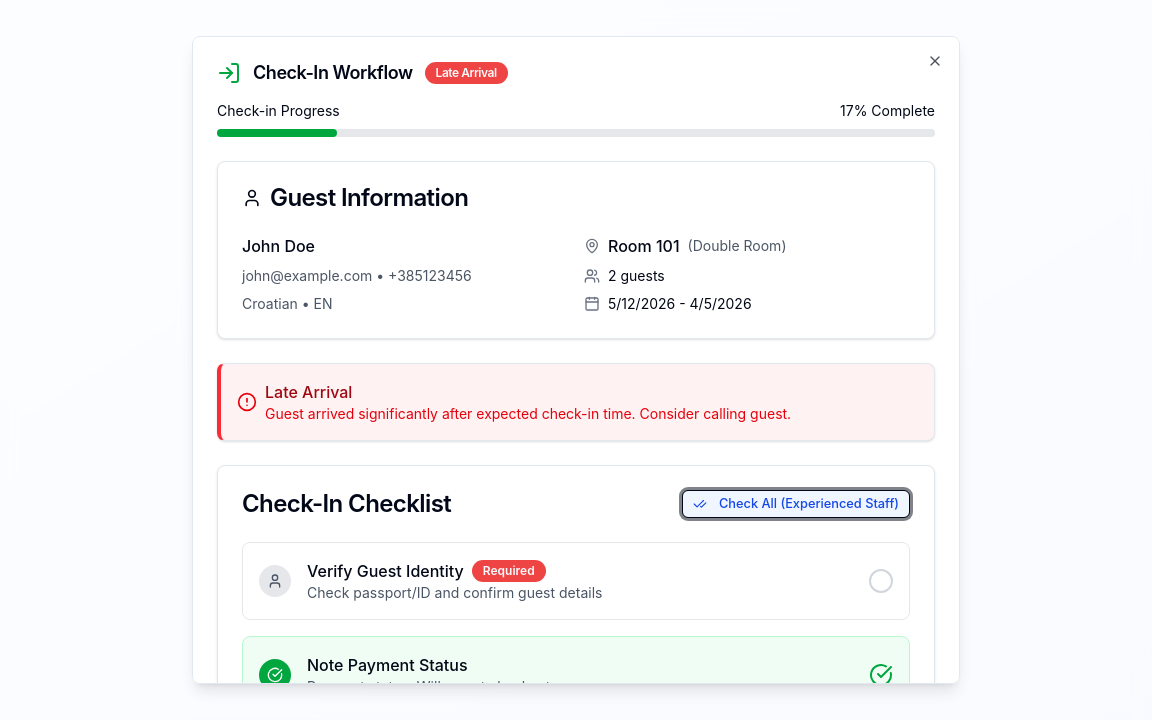
Test: CheckInWorkflow › step toggling › enables complete button after manually completing all required steps
The image size is (1152, 720).
Click the button "Verify Guest Identity": (576, 581) x1=242 y1=542 x2=910 y2=620
(page scrolled)
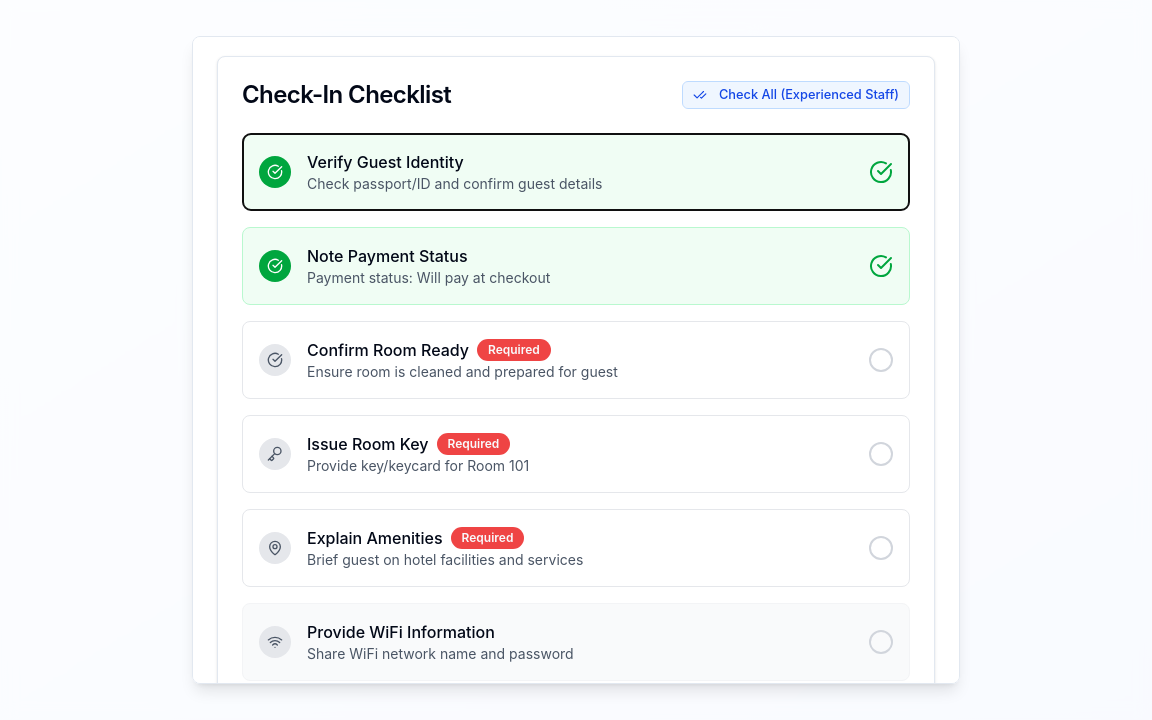
Click the button "Confirm Room Ready": (576, 360) x1=242 y1=321 x2=910 y2=399
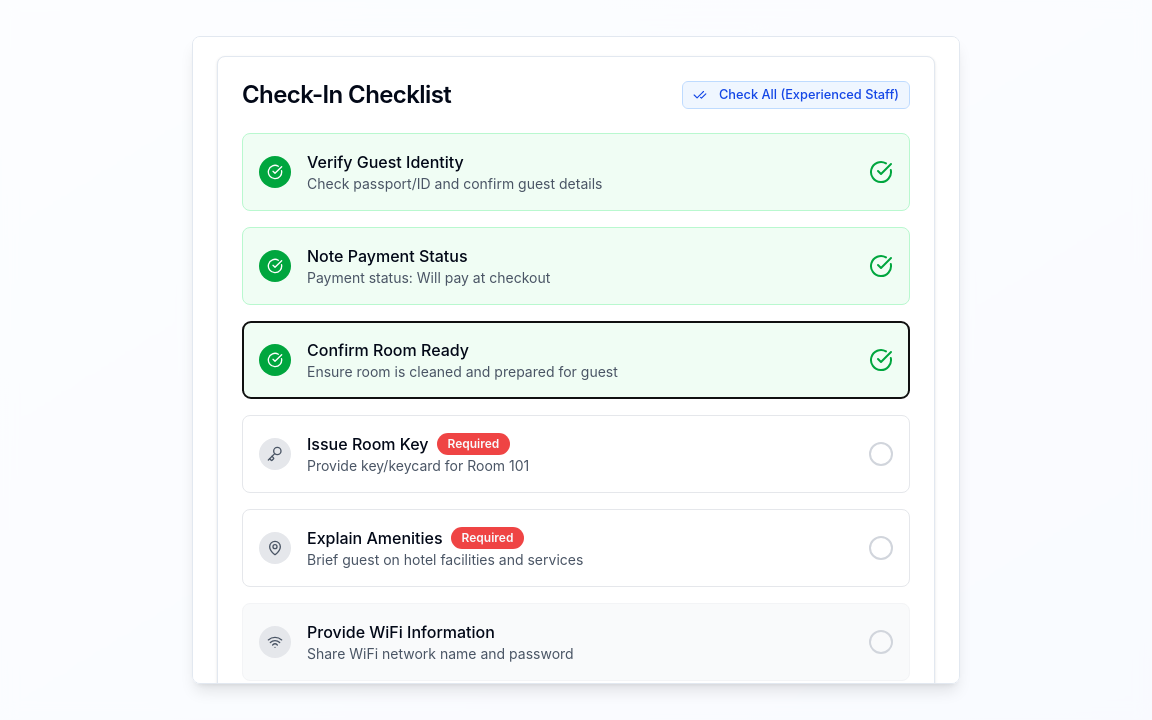
Click the button "Issue Room Key": (275, 454) x1=242 y1=415 x2=910 y2=493
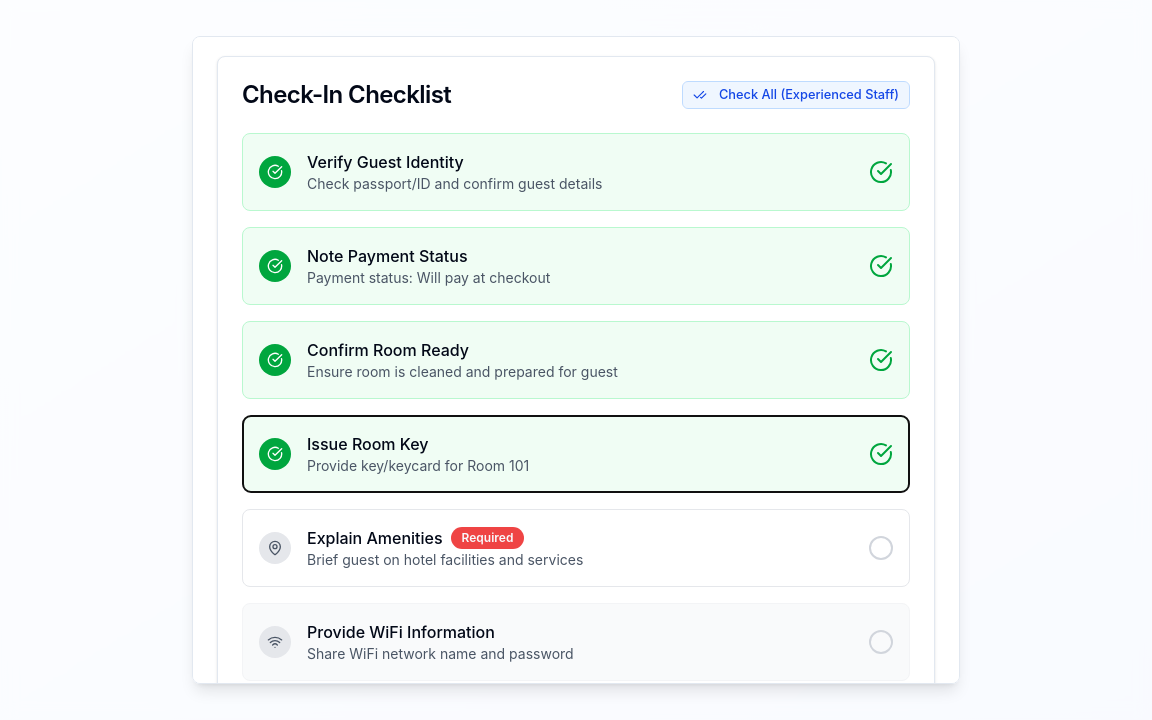
Click the button "Explain Amenities": (576, 548) x1=242 y1=509 x2=910 y2=587
(page scrolled)
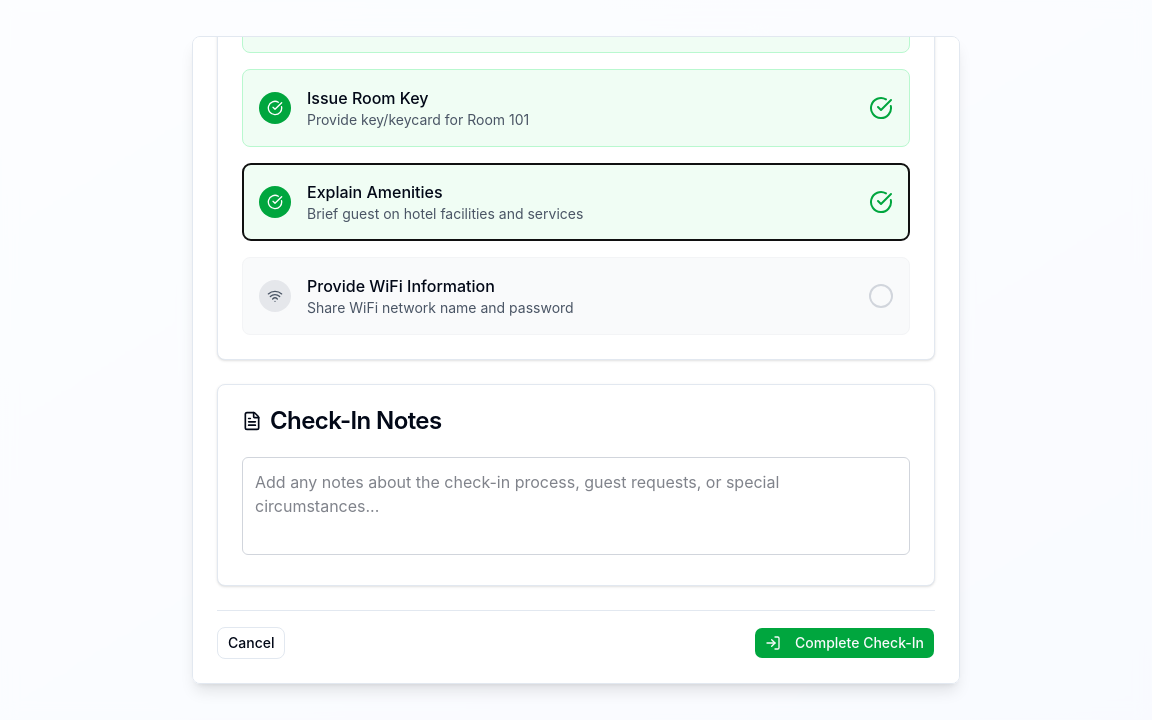
Check: the button "Complete Check-In" is enabled, box x1=754 y1=627 x2=935 y2=659
